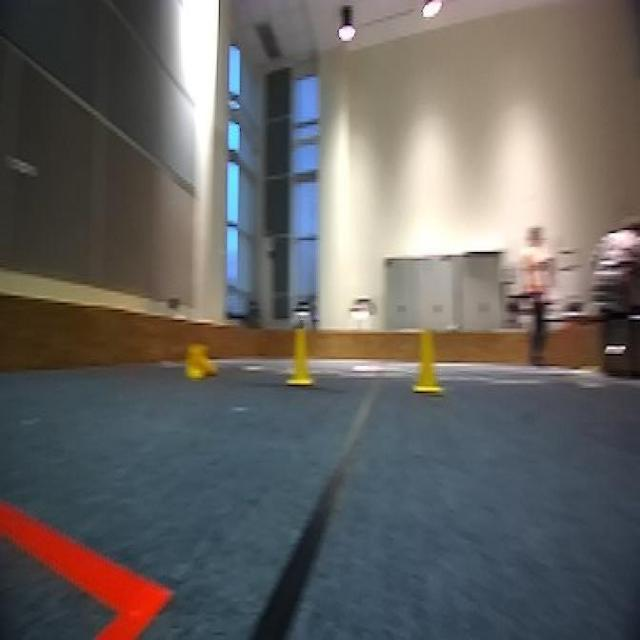frc_cone: (411, 330, 442, 397), (286, 324, 314, 386), (185, 341, 221, 382)
